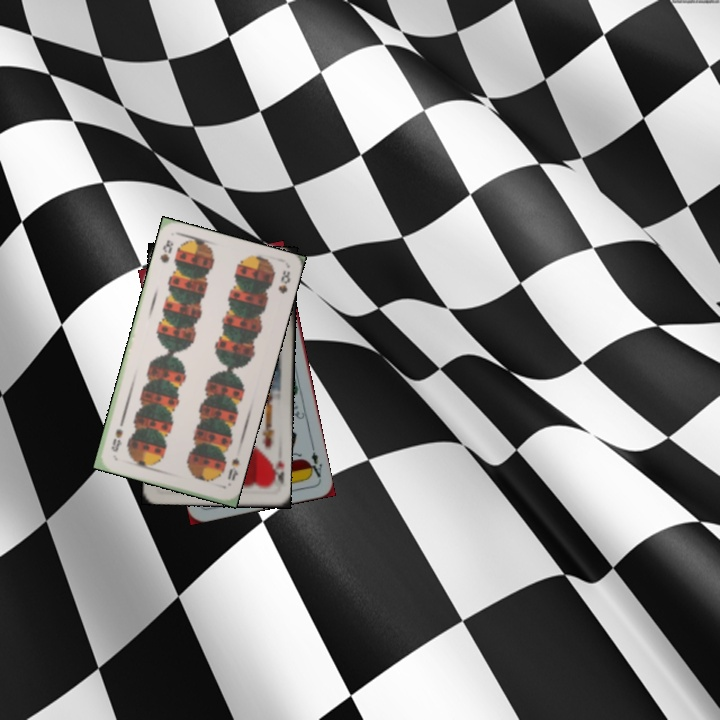EA: (304, 442, 325, 482)
HK: (266, 455, 286, 489)
S8: (156, 236, 176, 265), (223, 454, 242, 483)
